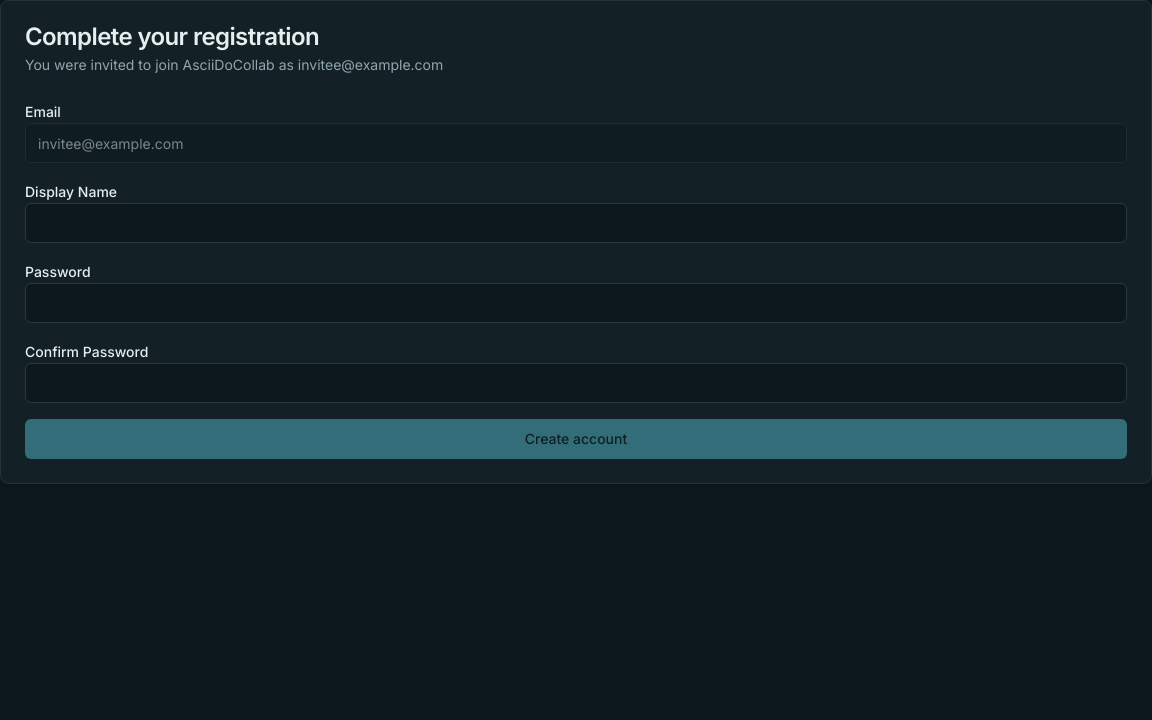
Test: AcceptInviteForm › shows a password error on blur when the password is weak
This screenshot has width=1152, height=720.
Expected: the heading "Complete your registration" is shown, [25,22,319,51]
Type "weak" into the password field labelled "Password" at x=576, y=303, box [25,283,1127,323]
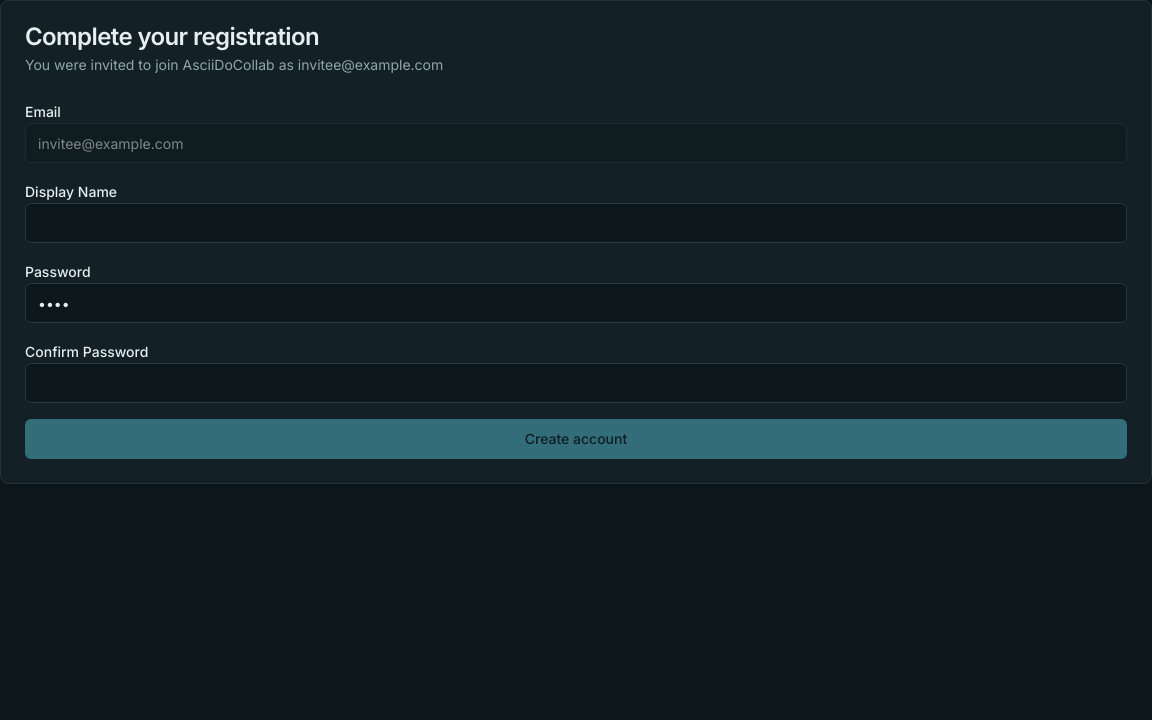
Leave the password field labelled "Password", box [25,283,1127,323]
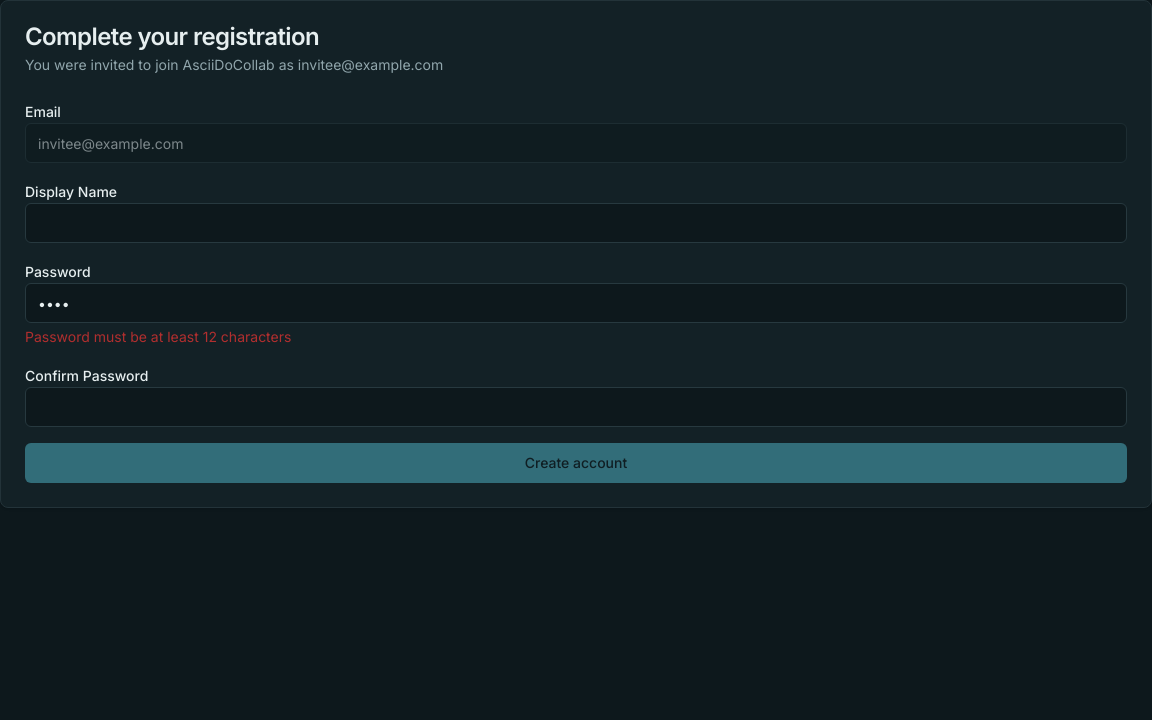
Now the message shows "at least 12 characters", box [25,328,291,345]
